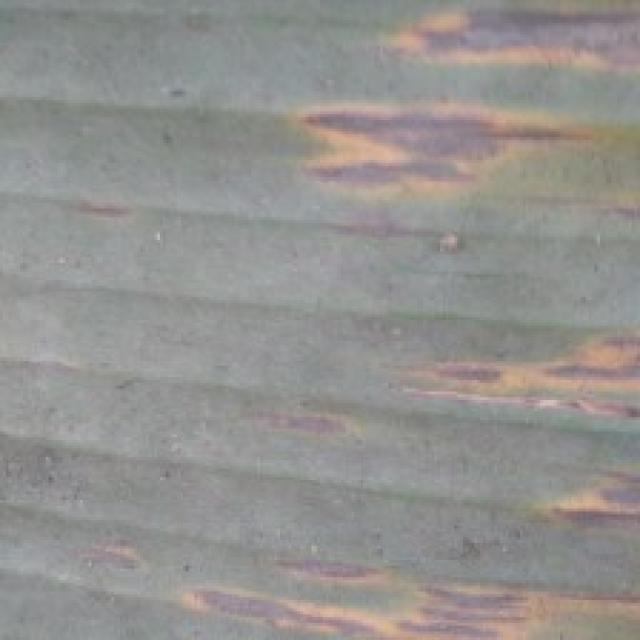Early_leaf_spot: (279, 86, 629, 217), (163, 551, 627, 640), (391, 319, 640, 442), (374, 0, 639, 94), (520, 442, 640, 534), (78, 508, 170, 588)
